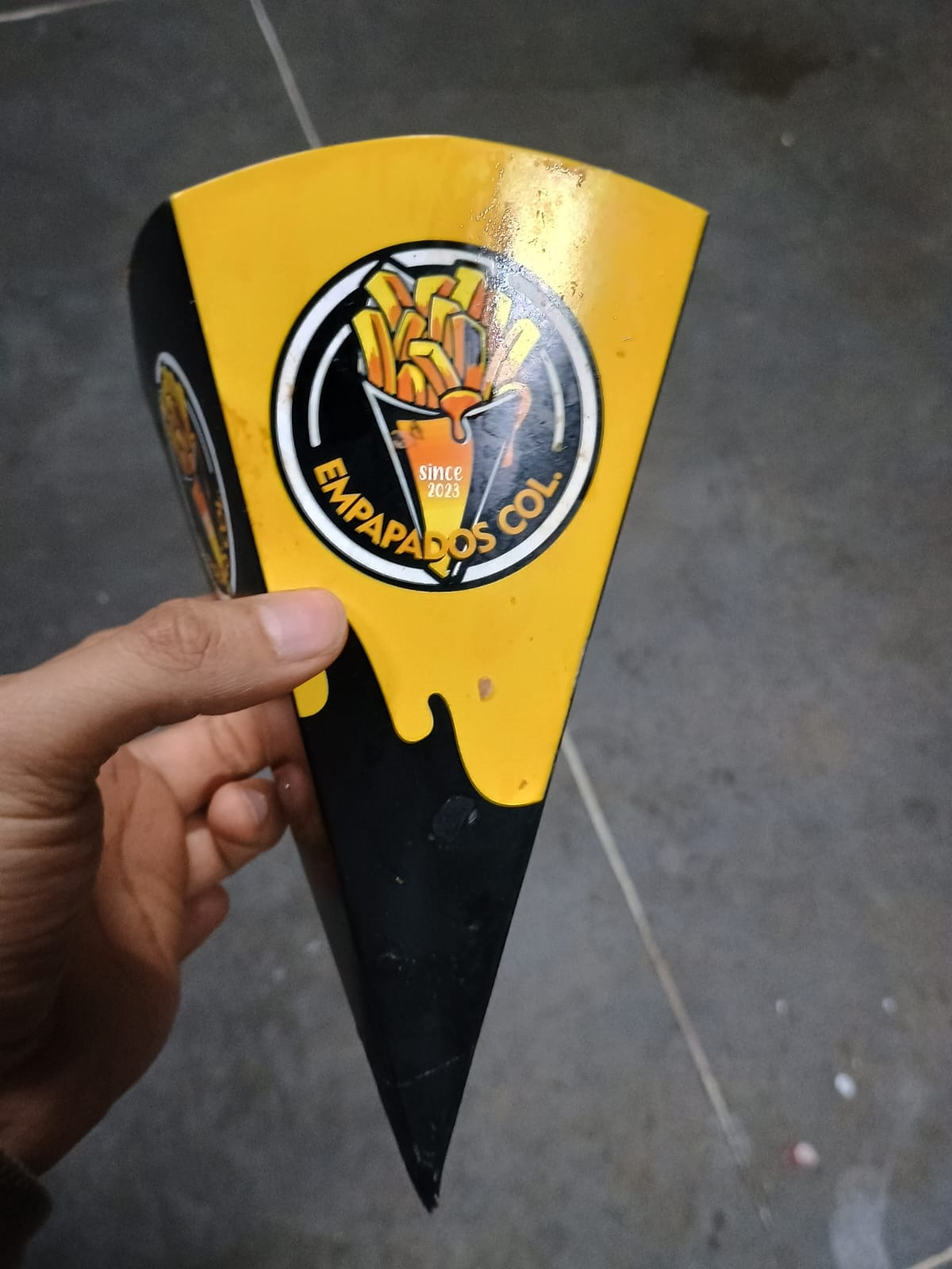Carton: (124, 135, 715, 1214)
